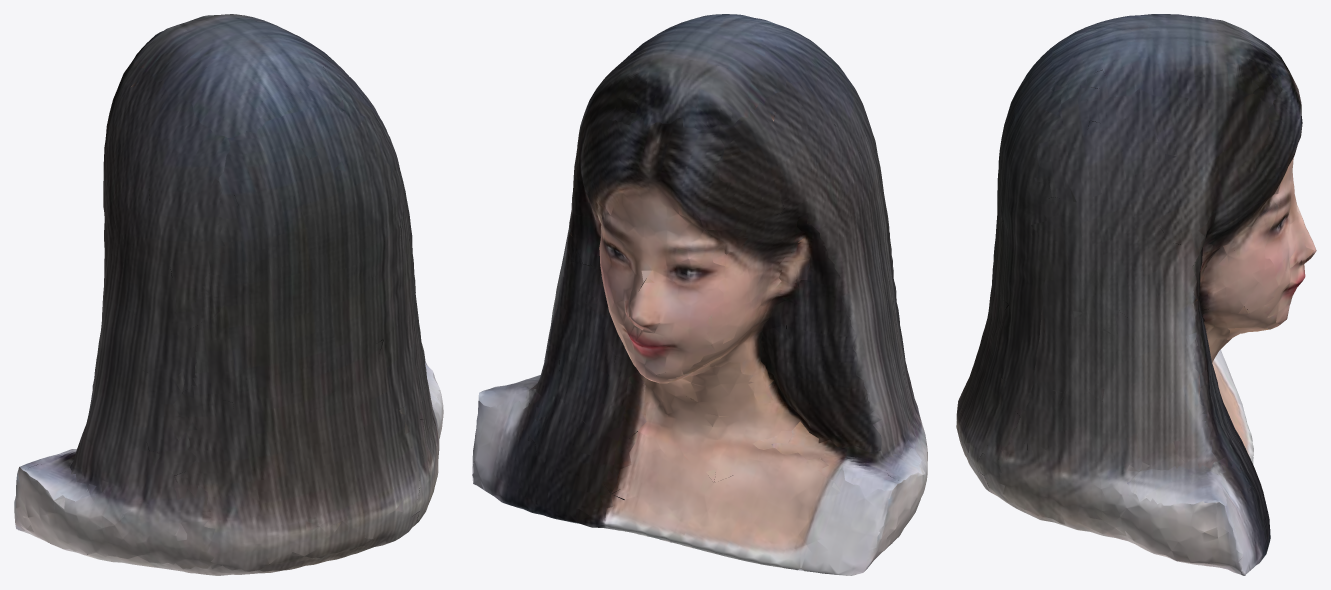
The picture shows the model from 3 angles, left to right: view 1: azimuth 30°, elevation 25°; view 2: azimuth 150°, elevation 25°; view 3: azimuth 270°, elevation 25°; orthographic projection. The views are drawn at different scales.
Visible parts, largest first — view 1: world; view 2: world; view 3: world.
Part boxes in pixels (x1=…): world: x1=14, y1=14, x2=443, y2=575; world: x1=472, y1=14, x2=927, y2=575; world: x1=956, y1=14, x2=1316, y2=575.
Bounding box in the file's own units: 0.7883 × 0.8846 × 0.6215.
Materials: 1 (1 with a texture image).
